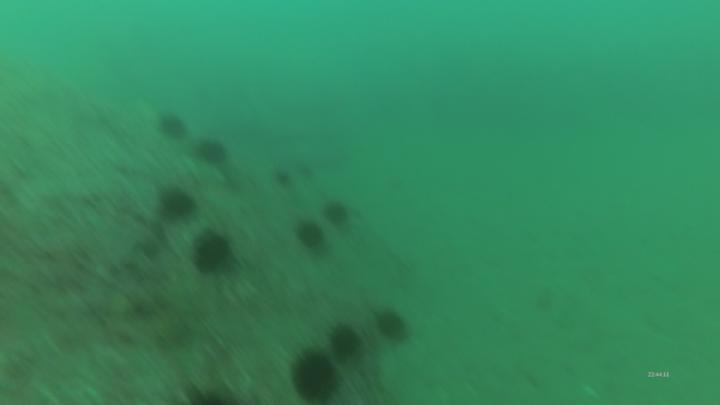echinus: (288, 346, 342, 405), (190, 230, 236, 280), (155, 180, 199, 227), (372, 305, 415, 350), (328, 322, 363, 363), (292, 219, 328, 254), (192, 135, 229, 168), (154, 108, 188, 142), (320, 202, 351, 230), (274, 168, 294, 191)
